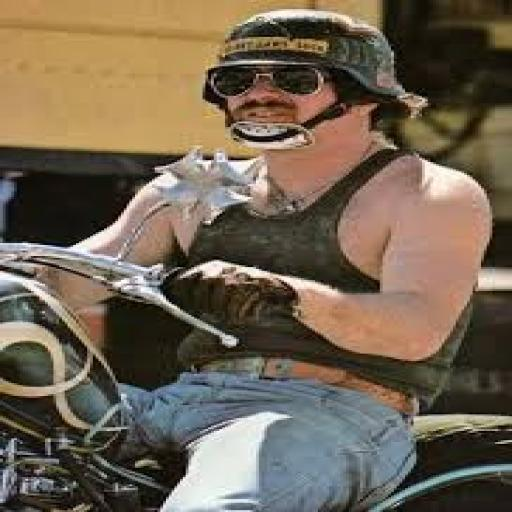helmet: (208, 7, 428, 120)
overloading: (0, 238, 509, 510)
